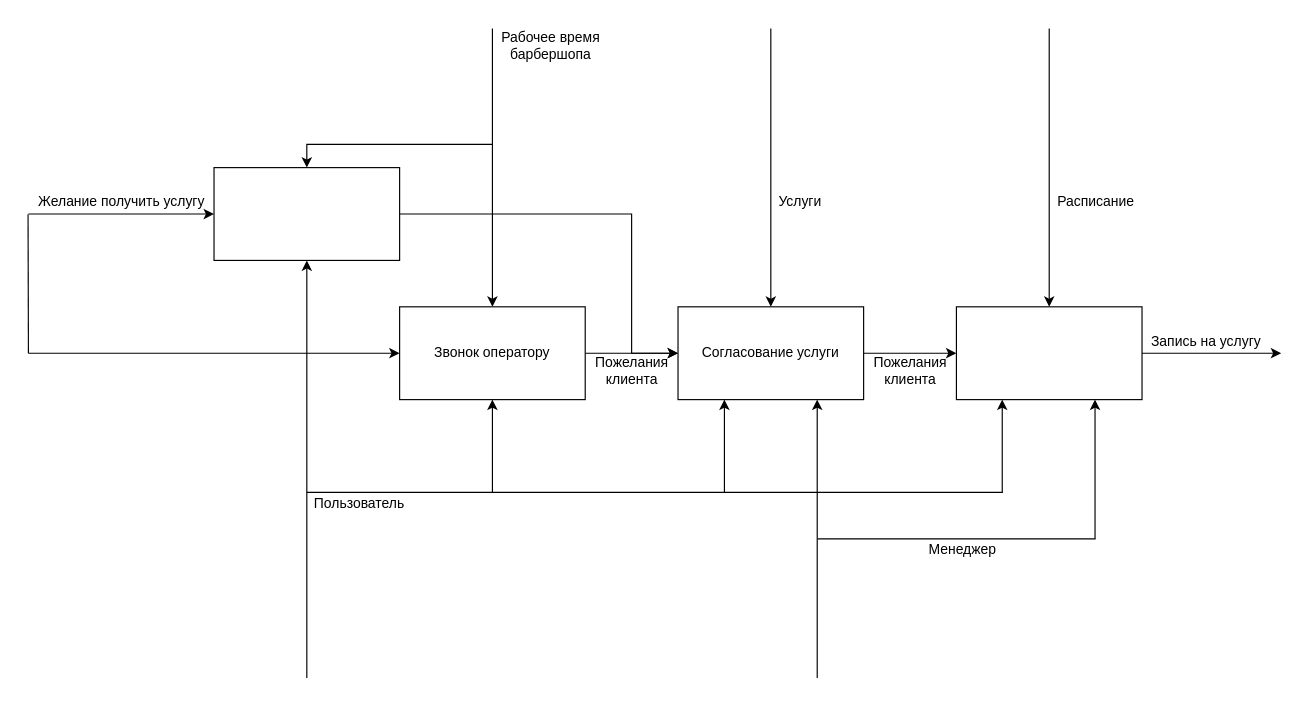
Image size: 1311x708. Some labels were removed from this diagram. Here are the shapes that lost their labels. From the top down, the box of each, then its label:
(213, 166, 400, 260): Посещение барбершопа
(955, 306, 1142, 400): Согласование времени
